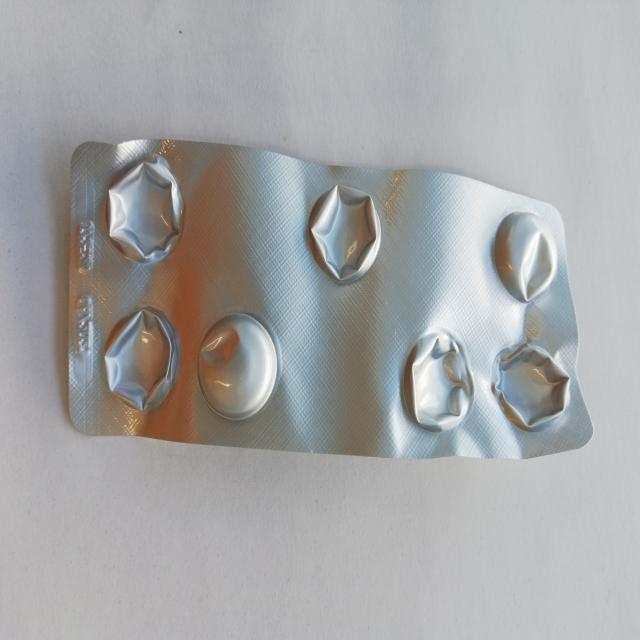Empty: (100, 158, 186, 266), (97, 302, 179, 414), (302, 178, 382, 288), (487, 336, 573, 433), (399, 326, 474, 436)
Pill: (194, 310, 280, 424), (490, 208, 557, 304)
